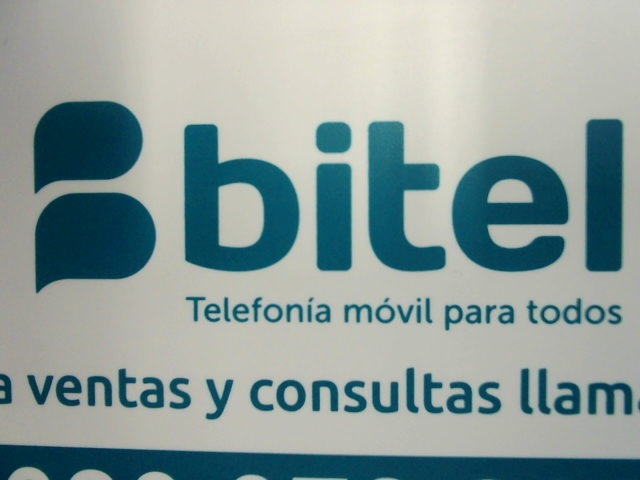BE_bitel: (28, 96, 628, 293)
